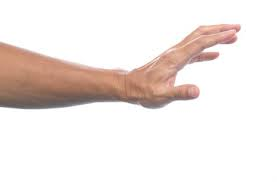hand: (112, 12, 252, 130)
